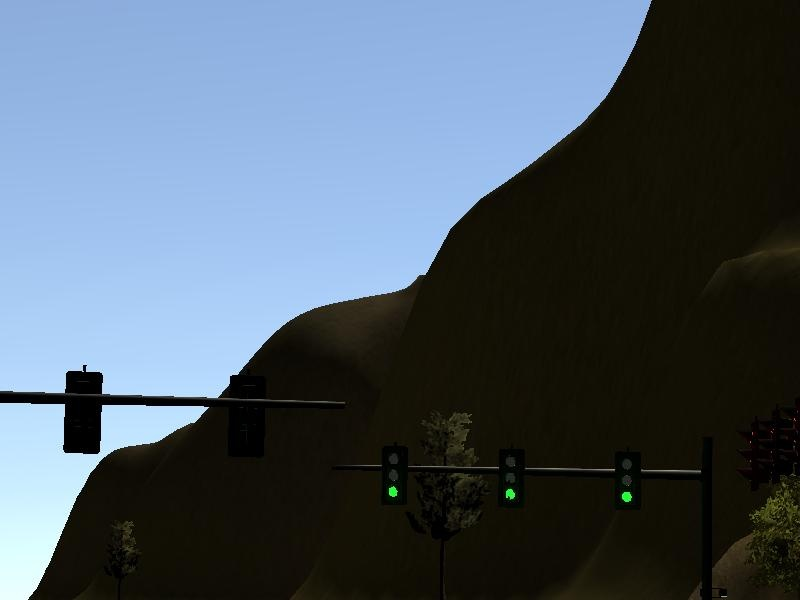green: (499, 450, 526, 507), (616, 453, 641, 511), (381, 449, 407, 504)
